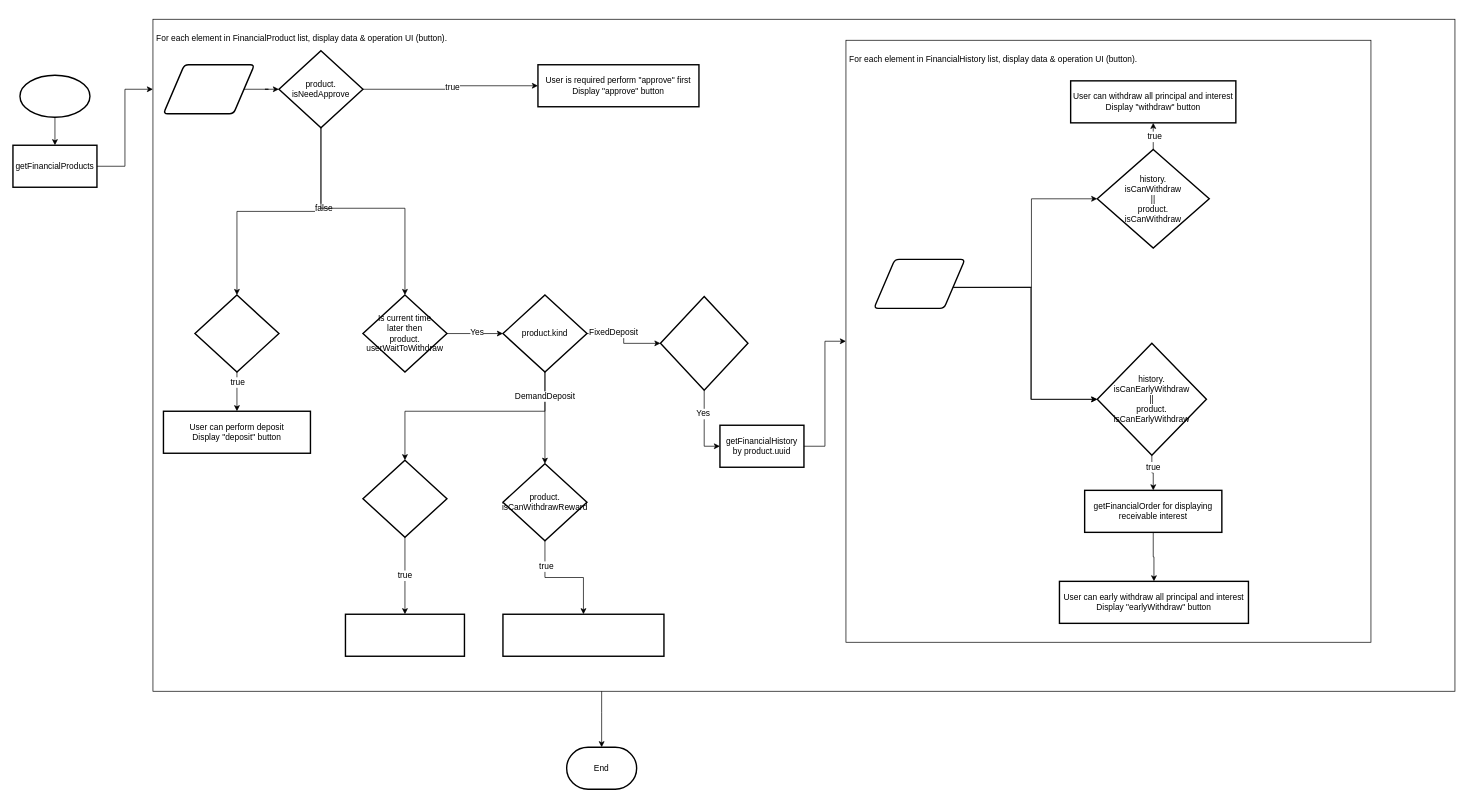
Some shapes in this 1467 by 802 pixel diagram are drawn without their labels. The box of each missing label's shape, as (x1, y1, x2, y2) in pixels:
FinancialHistory: (873, 258, 965, 309)
FinancialProduct: (162, 64, 255, 114)
Is product. userDeposit not 0 or empty: (659, 295, 748, 391)
product. isCanDeposit: (194, 294, 279, 372)
product. isCanWithdraw: (362, 459, 447, 538)
Start: (19, 74, 90, 118)
User can withdraw interest Display "withdrawReward" button: (502, 613, 664, 657)
User can withdraw principal Display "withdraw" button: (344, 613, 465, 657)
